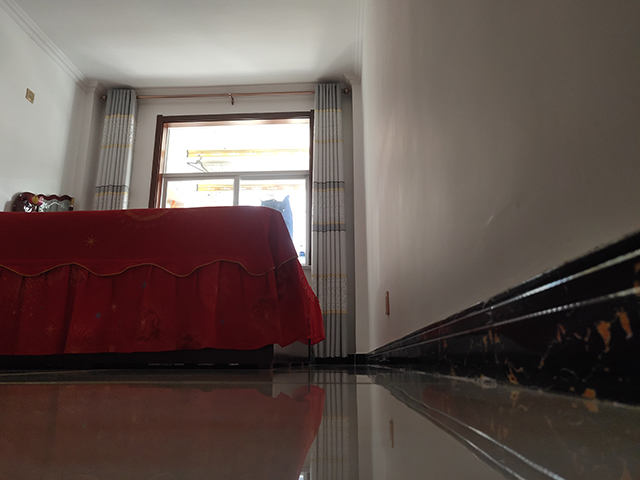bed: (1, 203, 327, 370)
curtain: (310, 82, 350, 360), (96, 82, 133, 210)
